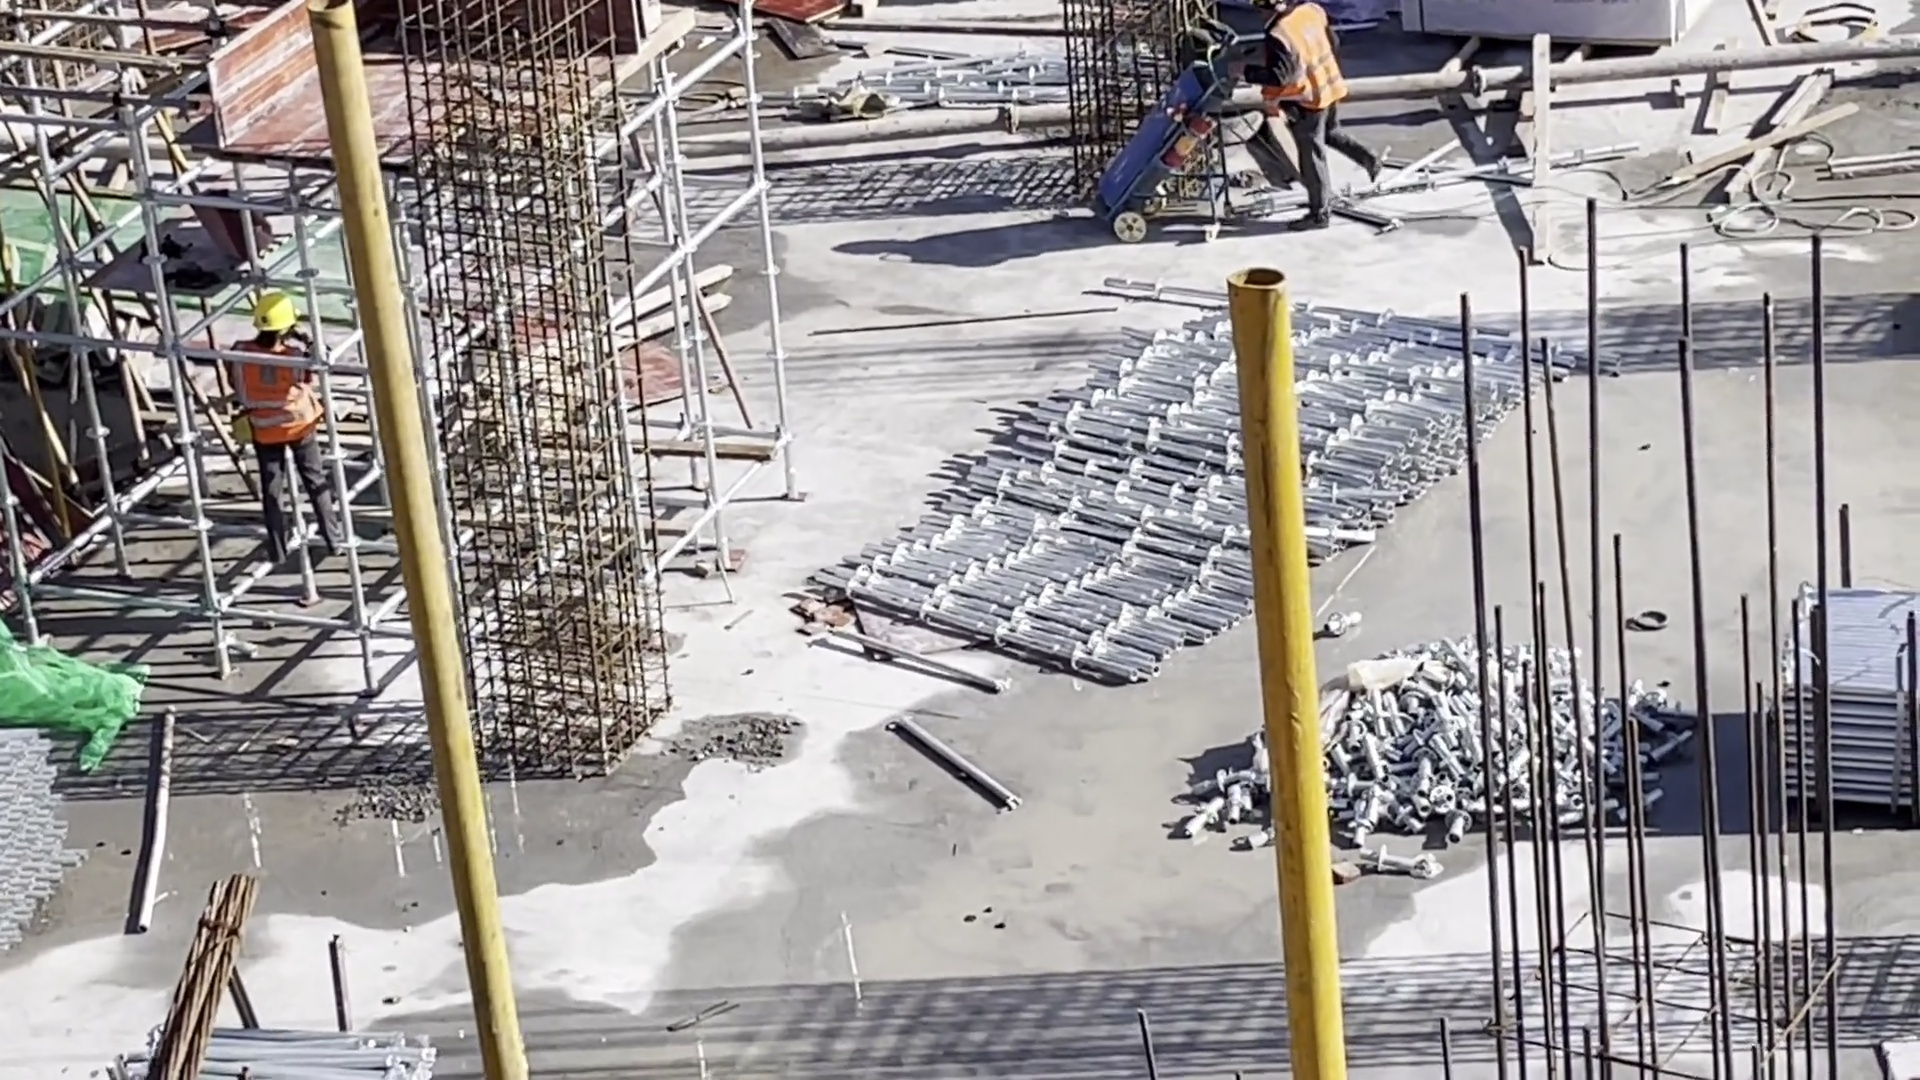helmet: (248, 293, 296, 340)
person: (234, 290, 343, 561), (1260, 1, 1386, 238)
scaffold: (806, 264, 1625, 687), (1774, 570, 1915, 818), (117, 1019, 441, 1080)
vest: (235, 338, 324, 454), (1273, 6, 1344, 119)
